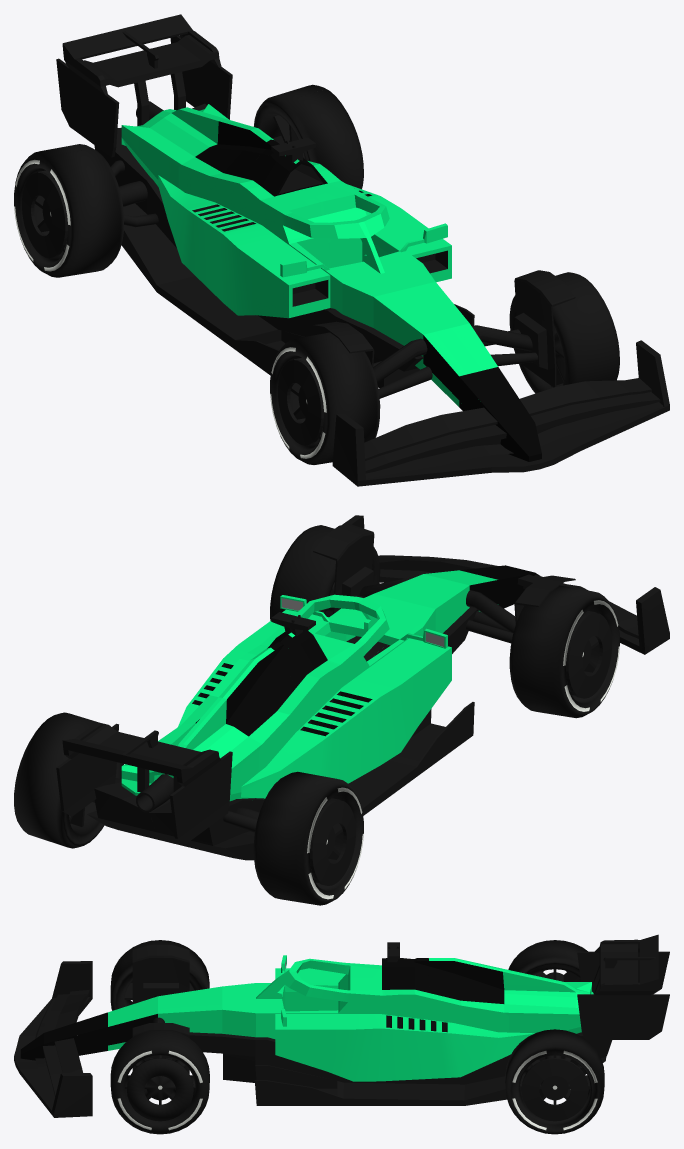
Rendered from kicksauber_car.glb.
3 views of the same model, one above another, from view 1: azimuth 30°, elevation 25°; view 2: azimuth 150°, elevation 25°; view 3: azimuth 270°, elevation 25° (orthographic). The views are drawn at different scales.
Parts seen in each view (by area): view 1: Base Unsubsurfed, Front Wing Base, Sidepod, Rear Wing, Bottom, RR_Tire, FR_Tire, FL_Tire, RL_Tire, L_Inside Cover, FRod, RRod (+1 smaller); view 2: Base Unsubsurfed, Sidepod, RR_Tire, FR_Tire, Rear Wing, Bottom, RL_Tire, Front Wing Base, FL_Tire, L_Inside Cover, FRod, R_Inside Cover (+3 smaller); view 3: Base Unsubsurfed, Sidepod, Bottom, RL_Tire, FL_Tire, Rear Wing, Front Wing Base, R_Inside Cover, RR_Tire, FR_Tire, L_Inside Cover.
Part boxes in pixels (box(x1,y1,x2,y2)): Base Unsubsurfed: box(121, 104, 541, 461); Front Wing Base: box(332, 340, 669, 486); Sidepod: box(158, 175, 451, 318); Rear Wing: box(56, 14, 232, 157); Bottom: box(94, 103, 474, 387); RR_Tire: box(14, 144, 124, 277); FR_Tire: box(270, 332, 380, 464); FL_Tire: box(509, 272, 619, 393); RL_Tire: box(253, 84, 363, 189); L_Inside Cover: box(514, 270, 575, 387); FRod: box(373, 325, 538, 398); RRod: box(110, 160, 158, 227); Base Unsubsurfed: box(121, 565, 539, 801); Sidepod: box(178, 609, 451, 798); RR_Tire: box(253, 771, 363, 905); FR_Tire: box(509, 585, 619, 718); Rear Wing: box(56, 722, 232, 843); Bottom: box(87, 607, 477, 860); RL_Tire: box(14, 712, 123, 848); Front Wing Base: box(342, 515, 669, 654); FL_Tire: box(270, 525, 380, 620); L_Inside Cover: box(313, 524, 374, 614); FRod: box(353, 576, 515, 643); R_Inside Cover: box(514, 575, 575, 624); Base Unsubsurfed: box(20, 955, 593, 1060); Sidepod: box(275, 968, 534, 1081); Bottom: box(189, 1032, 612, 1105); RL_Tire: box(505, 1029, 604, 1134); FL_Tire: box(110, 1031, 209, 1134); Rear Wing: box(577, 934, 669, 1039); Front Wing Base: box(14, 961, 92, 1117); R_Inside Cover: box(132, 945, 189, 1003); RR_Tire: box(508, 940, 587, 981); FR_Tire: box(110, 940, 209, 1010); L_Inside Cover: box(132, 1023, 189, 1089).
Bounding box in the file's own units: 5.15 × 2.77 × 12.15.
